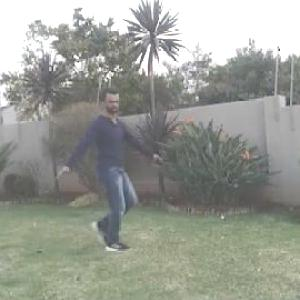land: (43, 73, 168, 278)
